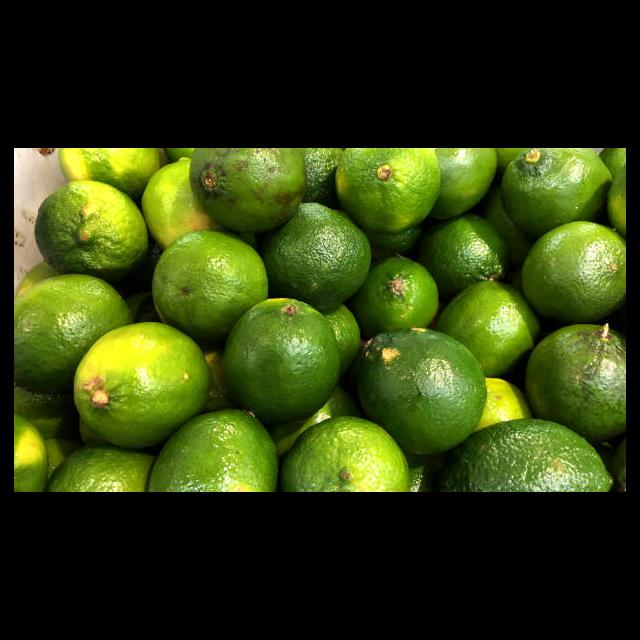lime: (71, 321, 213, 451), (355, 324, 490, 458), (432, 280, 544, 376), (189, 148, 310, 234)
